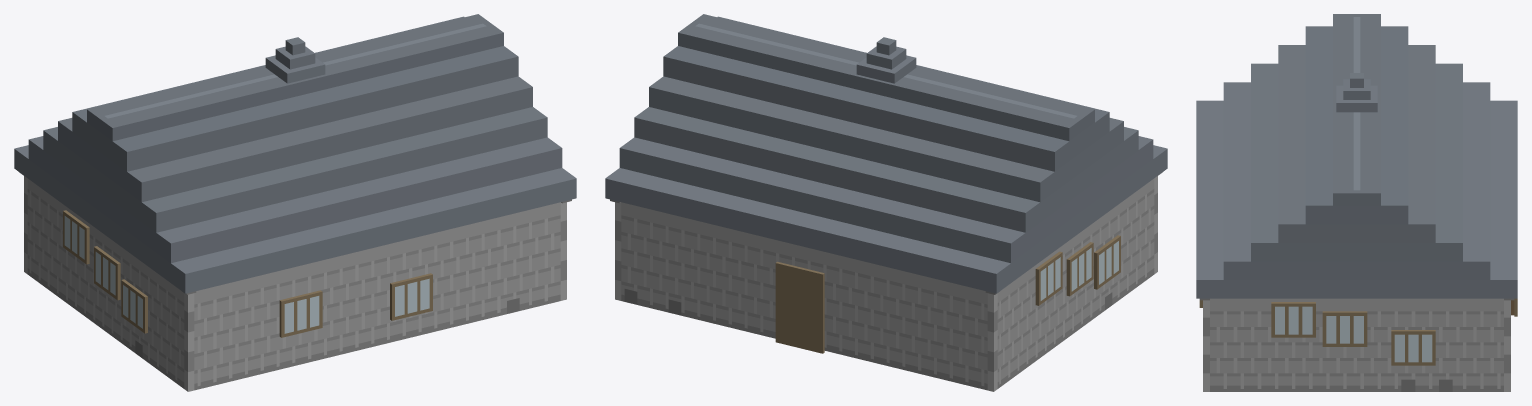
File: gran_catedral_03.glb
3 renders of one model, left to right at view 1: azimuth 30°, elevation 25°; view 2: azimuth 150°, elevation 25°; view 3: azimuth 270°, elevation 25°, orthographic. The views are drawn at different scales.
Visible parts, largest first — view 1: gran_catedral_03; view 2: gran_catedral_03; view 3: gran_catedral_03.
Part boxes in pixels (x1=…): gran_catedral_03: x1=14, y1=14, x2=576, y2=391; gran_catedral_03: x1=605, y1=14, x2=1167, y2=391; gran_catedral_03: x1=1196, y1=14, x2=1517, y2=391.
Size of the model in its own units: 12.4 by 7.4 by 9.4.
